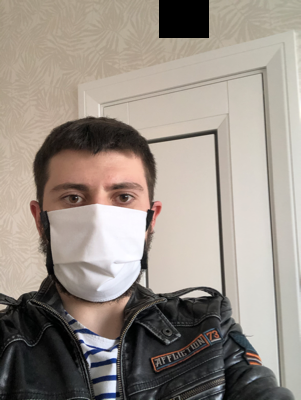with_mask: (42, 173, 154, 304)
